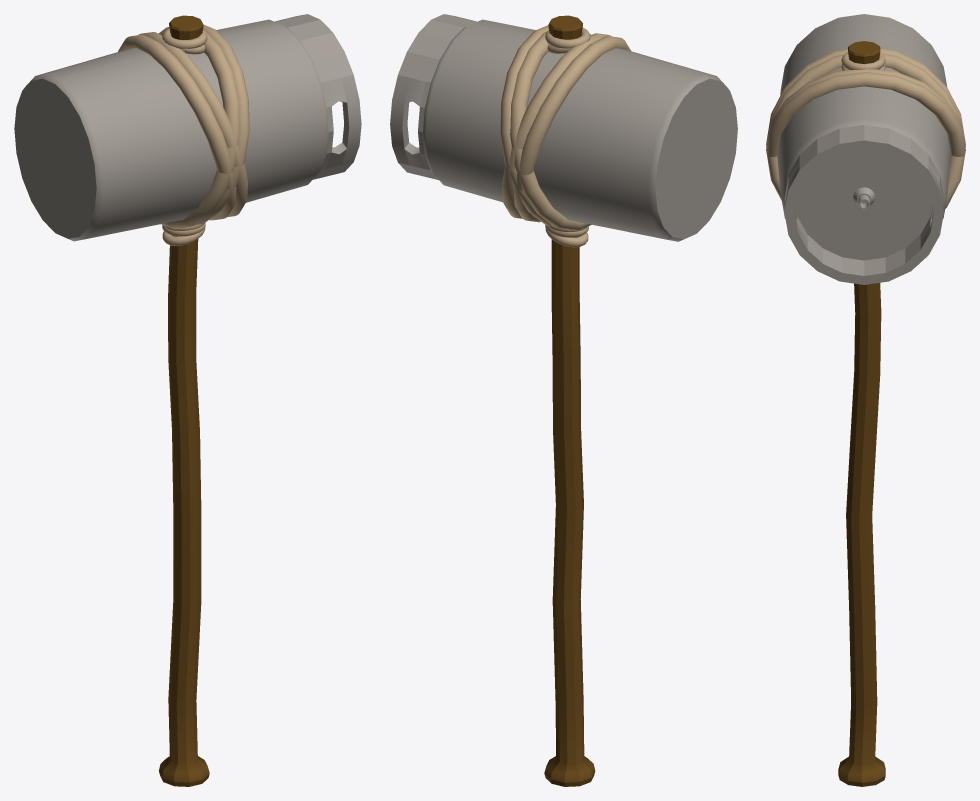
Rendered from KegHammer_Texture.fbx.
3 views of the same model, side by side, from view 1: azimuth 30°, elevation 25°; view 2: azimuth 150°, elevation 25°; view 3: azimuth 270°, elevation 25° (orthographic). The views are drawn at different scales.
Parts seen in each view (by area): view 1: pCylinder1; view 2: pCylinder1; view 3: pCylinder1.
Part boxes in pixels (x1,y1,x2,y2): pCylinder1: (14, 14, 361, 786); pCylinder1: (390, 14, 737, 786); pCylinder1: (766, 14, 965, 786).
Size of the model in its own units: 7.95 by 21.59 by 5.35.
